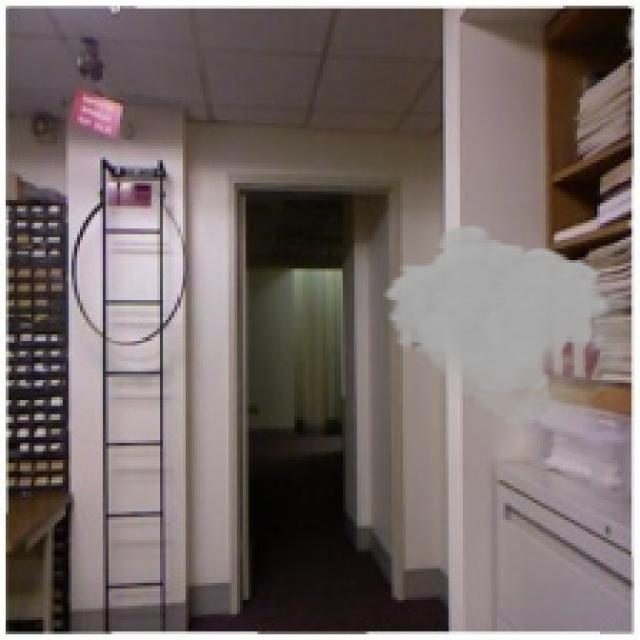Smoke: (379, 222, 632, 438)
